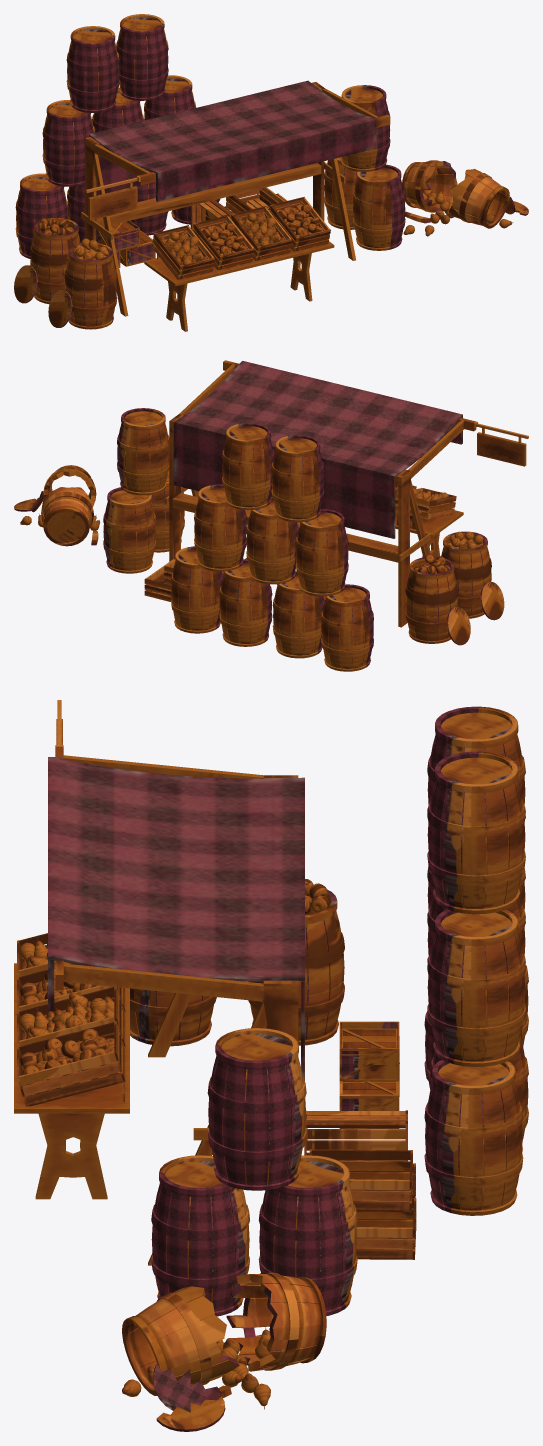
Rendered from Concept_7.fbx.
The picture shows the model from 3 angles, top to bottom: view 1: azimuth 30°, elevation 25°; view 2: azimuth 150°, elevation 25°; view 3: azimuth 270°, elevation 25°; orthographic projection. The views are drawn at different scales.
Visible parts, largest first — view 1: Cube.055, Circle.064, Circle.114, Circle.115, Circle.049, Circle.109, Circle.053, Cube.054, Circle.108, Circle.051, Circle.050, Cube.085 (+15 smaller); view 2: Cube.055, Circle.050, Circle.114, Circle.115, Circle.108, Circle.109, Circle.048, Circle.112, Circle.111, Circle.110, Circle.051, Circle.113 (+10 smaller); view 3: Cube.055, Circle.064, Circle.050, Circle.115, Circle.112, Circle.110, Circle.049, Circle.048, Cube.054, Circle.051, Cube.058, Circle.114 (+13 smaller).
Part boxes in pixels (x1,y1,x2,y2): Cube.055: [81, 80, 390, 316]; Circle.064: [402, 160, 509, 228]; Circle.114: [66, 26, 119, 112]; Circle.115: [116, 14, 168, 100]; Circle.049: [352, 164, 405, 250]; Circle.109: [42, 100, 94, 186]; Circle.053: [64, 243, 117, 329]; Cube.054: [144, 241, 334, 331]; Circle.108: [15, 173, 68, 258]; Circle.051: [30, 218, 80, 304]; Circle.050: [341, 85, 390, 171]; Cube.085: [85, 175, 140, 220]; Cube.055: [165, 360, 476, 627]; Circle.050: [117, 408, 169, 495]; Circle.114: [271, 435, 324, 522]; Circle.115: [222, 423, 274, 510]; Circle.108: [321, 584, 373, 671]; Circle.109: [295, 509, 348, 596]; Circle.048: [103, 487, 156, 573]; Circle.112: [194, 484, 246, 571]; Circle.111: [219, 559, 272, 646]; Circle.110: [171, 546, 223, 633]; Circle.051: [405, 556, 458, 643]; Circle.113: [246, 497, 298, 584]; Cube.055: [48, 746, 307, 1265]; Circle.064: [122, 1272, 326, 1399]; Circle.050: [207, 1028, 306, 1190]; Circle.115: [427, 751, 525, 914]; Circle.112: [427, 909, 525, 1066]; Circle.110: [424, 1059, 523, 1215]; Circle.049: [151, 1155, 249, 1316]; Circle.048: [258, 1155, 357, 1315]; Cube.054: [14, 963, 129, 1199]; Circle.051: [247, 889, 344, 1045]; Cube.058: [17, 1021, 125, 1106]; Circle.114: [427, 706, 525, 821].
Size of the model in its own units: 371 by 152 by 186.
